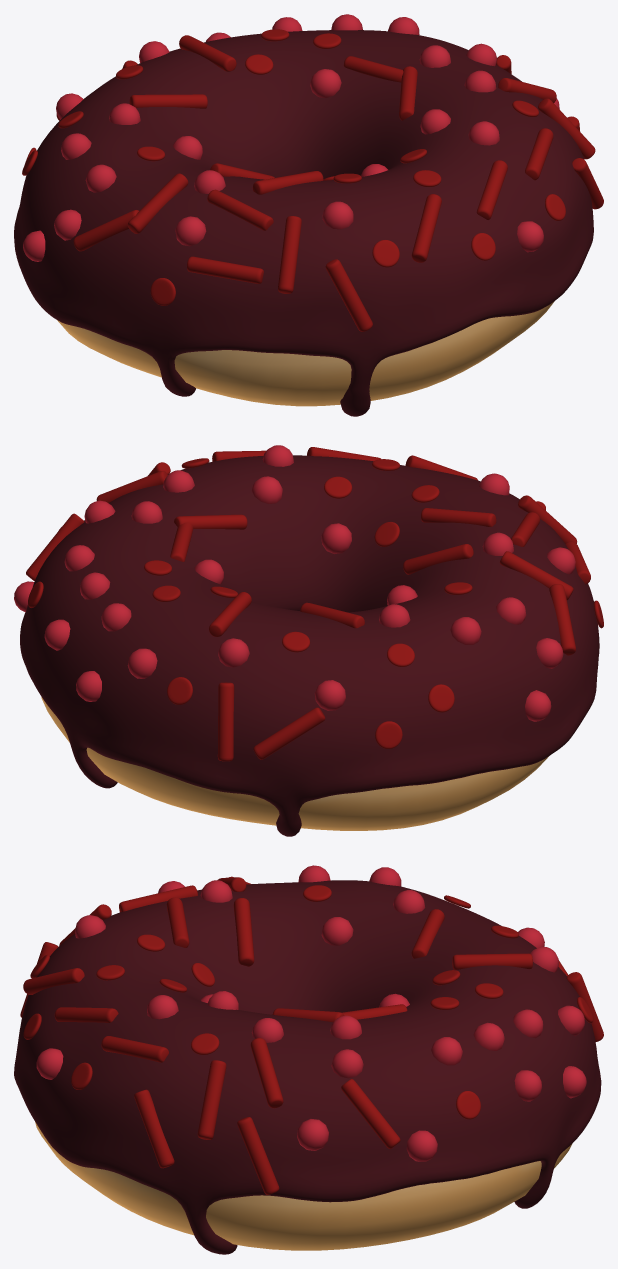
Rendered from RedDonut.glb.
3 renders of one model, top to bottom at view 1: azimuth 30°, elevation 25°; view 2: azimuth 150°, elevation 25°; view 3: azimuth 270°, elevation 25°, orthographic. The views are drawn at different scales.
Visible parts, largest first — view 1: Red Frosting, Red Donut; view 2: Red Frosting, Red Donut; view 3: Red Frosting, Red Donut.
Part boxes in pixels (<box>): Red Frosting: <box>14,14,603,416</box>; Red Donut: <box>57,301,554,406</box>; Red Frosting: <box>14,445,603,836</box>; Red Donut: <box>41,697,548,830</box>; Red Frosting: <box>14,865,603,1254</box>; Red Donut: <box>35,1122,572,1250</box>.
Bounding box in the file's own units: 0.666 × 0.2806 × 0.6482.
4 materials, 1 textured.
